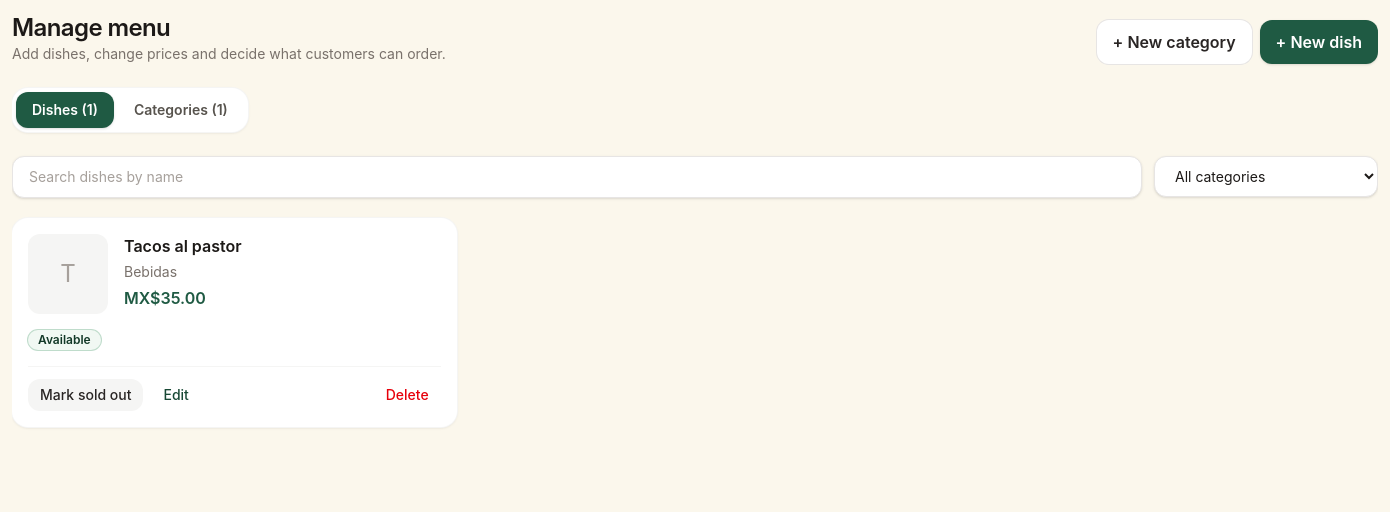
Test case: AdminMenuPage › shows the API's message when a change fails
The image size is (1390, 512).
Click the button "Mark sold out" at (86, 395), box x1=28 y1=379 x2=144 y2=411
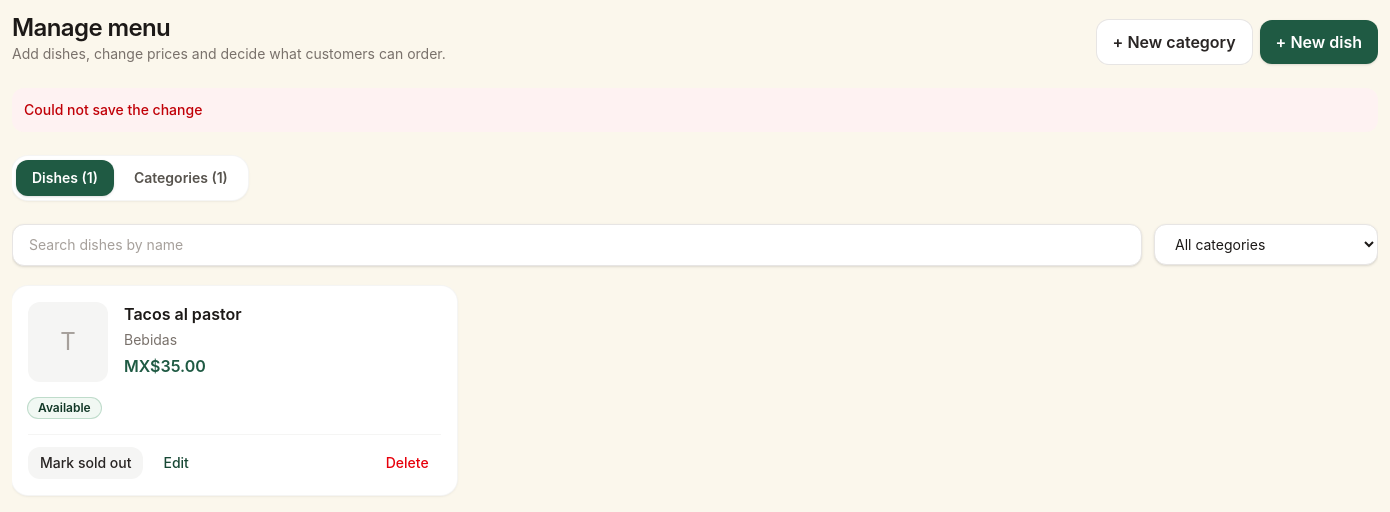
Expected: the message reads "Could not save the change", x1=24 y1=101 x2=202 y2=118
